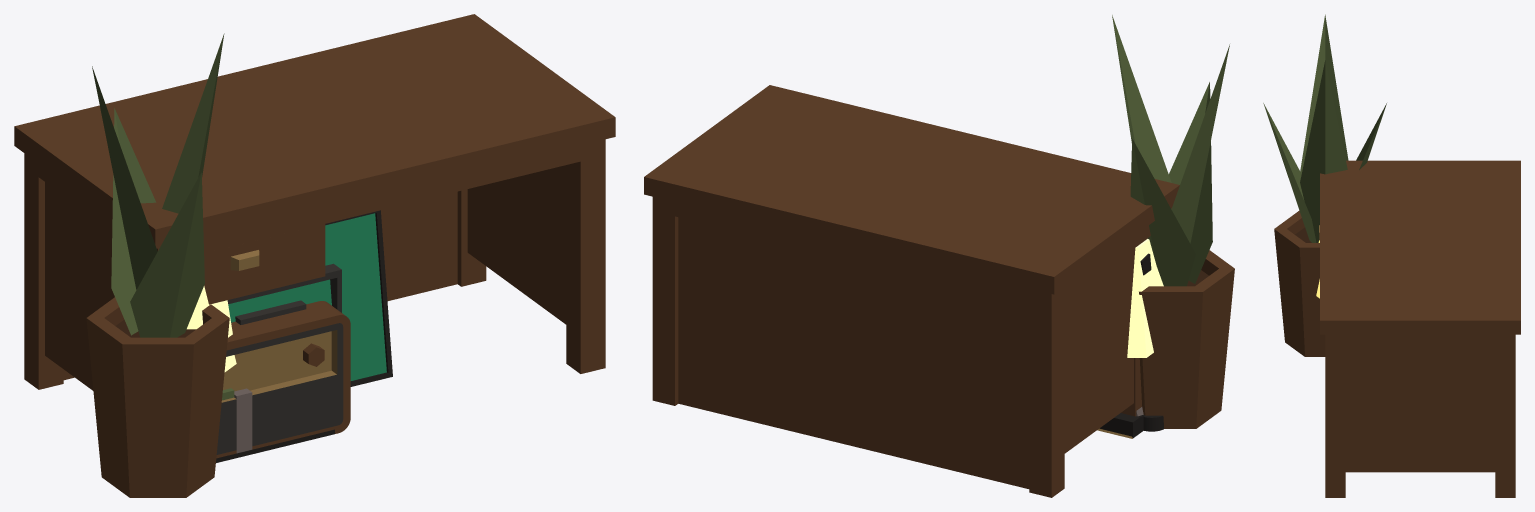
The model's file is hero-desk.glb.
The picture shows the model from 3 angles, left to right: view 1: azimuth 30°, elevation 25°; view 2: azimuth 150°, elevation 25°; view 3: azimuth 270°, elevation 25°; orthographic projection. The views are drawn at different scales.
Parts seen in each view (by area): view 1: Mesh desk, Mesh pottedPlant, radio(Clone), plant, computerScreen(Clone), drawer, books(Clone), lampRoundTable(Clone); view 2: Mesh desk, Mesh pottedPlant, plant, lampRoundTable(Clone), computerKeyboard(Clone); view 3: Mesh desk, plant, Mesh pottedPlant.
Part boxes in pixels (box(x1,y1,x2,y2)): Mesh desk: box(14, 14, 615, 390); Mesh pottedPlant: box(86, 297, 229, 497); radio(Clone): box(216, 263, 350, 458); plant: box(92, 33, 224, 337); computerScreen(Clone): box(228, 210, 392, 386); drawer: box(204, 228, 306, 285); books(Clone): box(222, 388, 252, 453); lampRoundTable(Clone): box(187, 286, 236, 372); Mesh desk: box(644, 85, 1179, 497); Mesh pottedPlant: box(1139, 250, 1234, 428); plant: box(1112, 15, 1229, 286); lampRoundTable(Clone): box(1097, 239, 1163, 438); computerKeyboard(Clone): box(1099, 413, 1145, 438); Mesh desk: box(1320, 160, 1520, 497); plant: box(1263, 14, 1386, 242); Mesh pottedPlant: box(1274, 210, 1325, 356).
Size of the model in its own units: 0.8305 by 0.654 by 0.5007.
